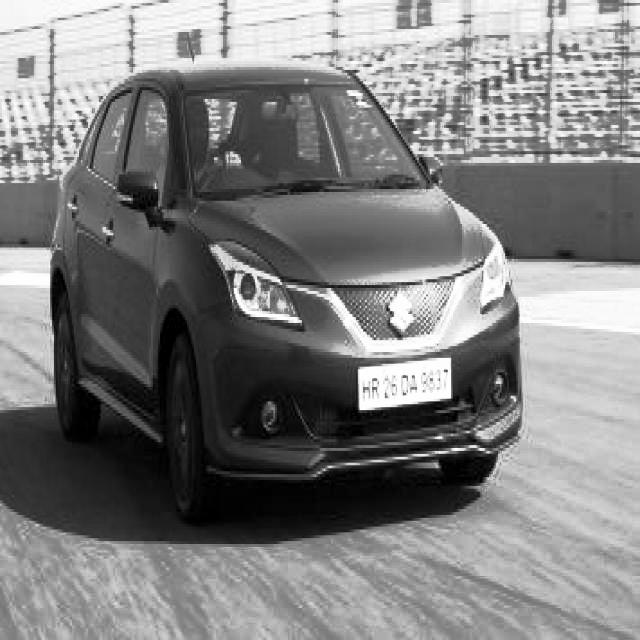Car: (34, 48, 532, 503)
